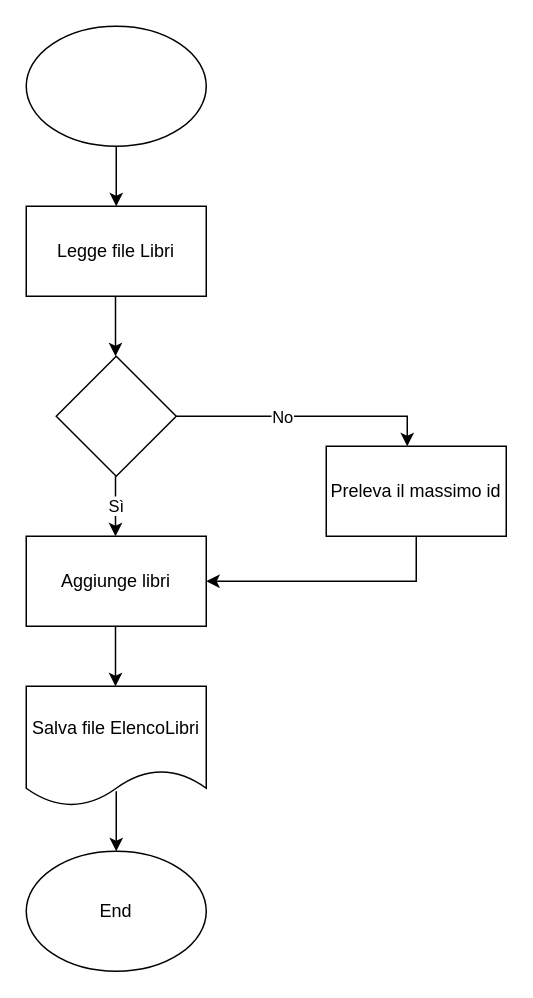
The diagram is 533 pixels wide and 998 high, and some of its shapes have lost their labels. The shapes that lost their labels are listed below. From the top down, each one's centre as x and y in pixels, then its label:
the point at 115,85: Start
the point at 115,415: Il file è vuoto
